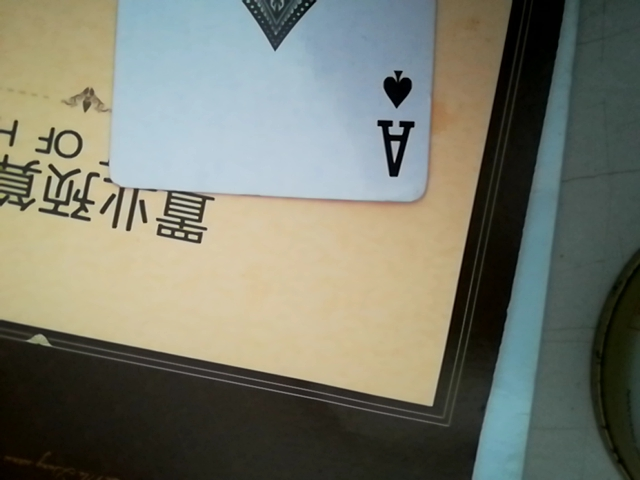ht a: (104, 1, 447, 202)
